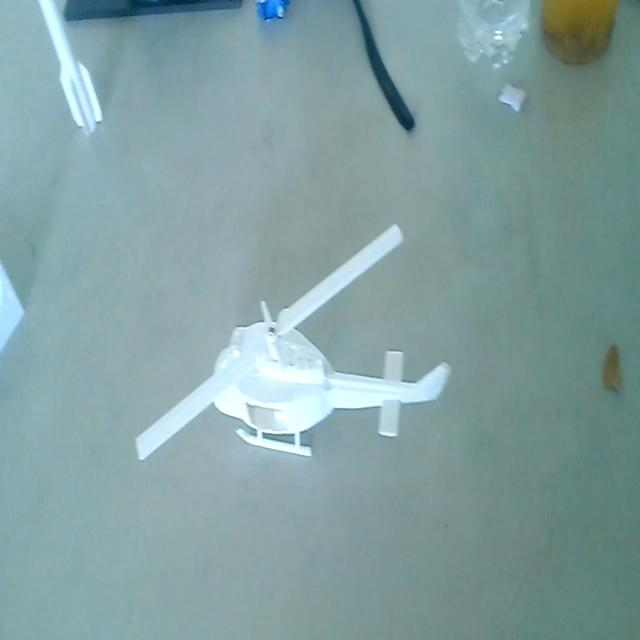Helicopter: (134, 219, 453, 488)
Rocket: (32, 0, 110, 141)
